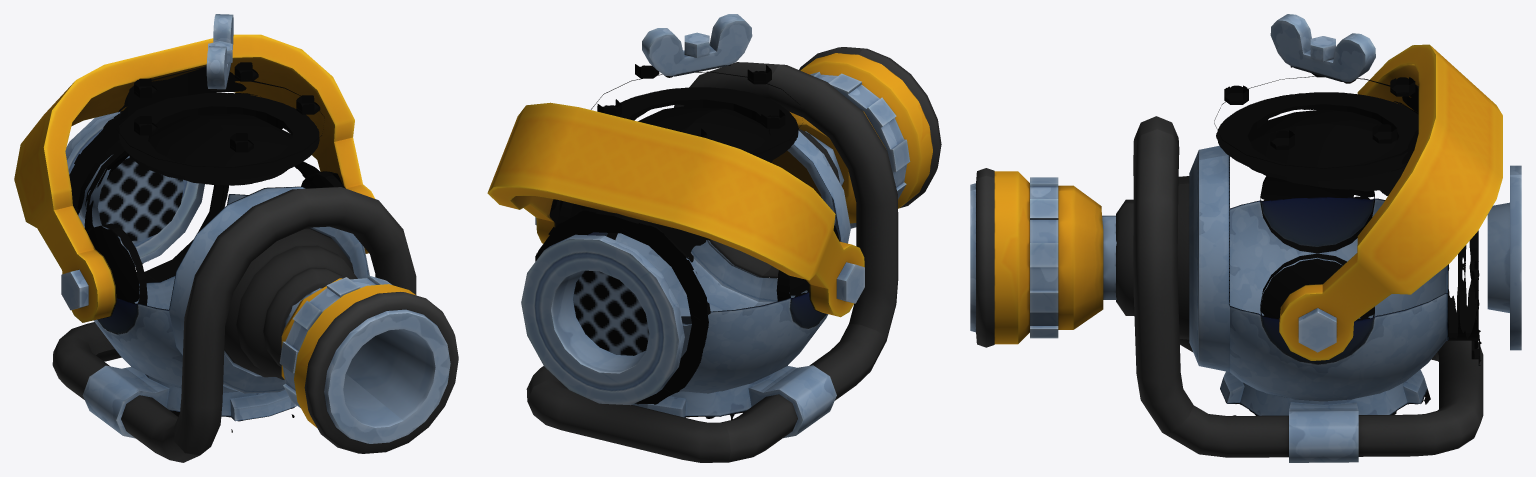
File: obj_interactive_mountablewatercanon_off.fbx
The picture shows the model from 3 angles, left to right: view 1: azimuth 30°, elevation 25°; view 2: azimuth 150°, elevation 25°; view 3: azimuth 270°, elevation 25°; orthographic projection. The views are drawn at different scales.
Visible parts, largest first — view 1: obj_interactive_watercanon_part_off; view 2: obj_interactive_watercanon_part_off; view 3: obj_interactive_watercanon_part_off.
Part boxes in pixels (left/top/right/bottom): obj_interactive_watercanon_part_off: left=14, top=14, right=458, bottom=462; obj_interactive_watercanon_part_off: left=487, top=14, right=941, bottom=462; obj_interactive_watercanon_part_off: left=970, top=14, right=1521, bottom=462.
Size of the model in its own units: 2.67 by 3.1 by 4.02.
1 material, 1 textured.
